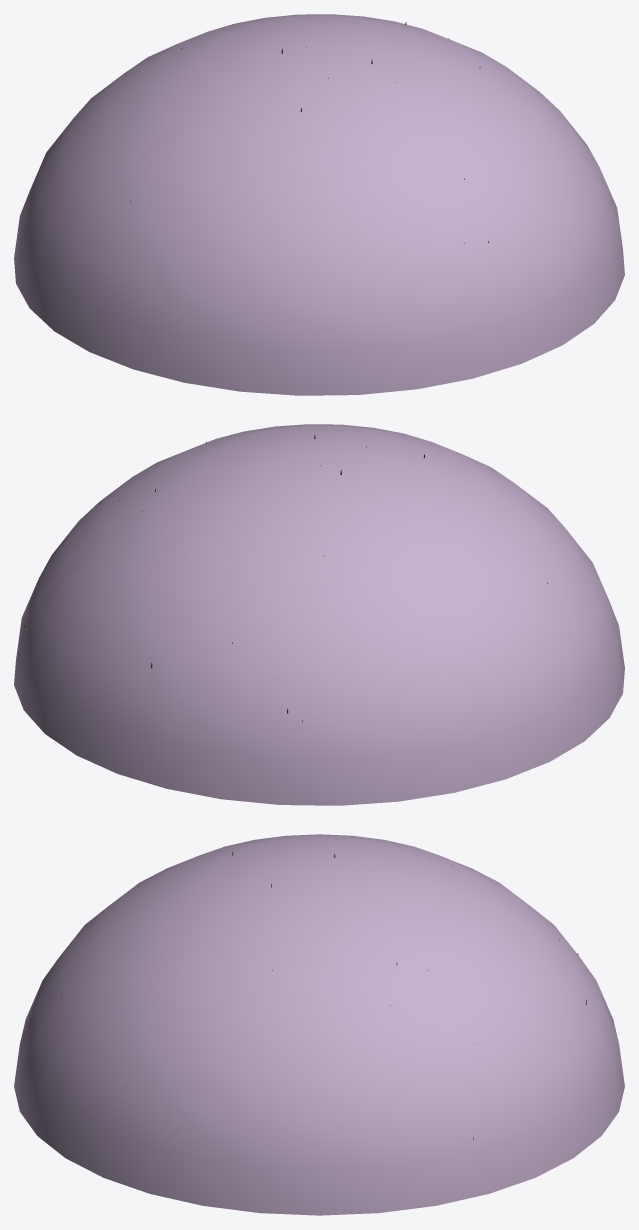
The model's file is particule_000004.obj.
3 renders of one model, top to bottom at view 1: azimuth 30°, elevation 25°; view 2: azimuth 150°, elevation 25°; view 3: azimuth 270°, elevation 25°, orthographic.
Visible parts, largest first — view 1: Sphère; view 2: Sphère; view 3: Sphère.
Boxes of the visible parts, <box> form: Sphère: <box>14,14,624,395</box>; Sphère: <box>14,424,624,805</box>; Sphère: <box>14,834,624,1215</box>.
Size of the model in its own units: 63430 by 25240 by 63430.
